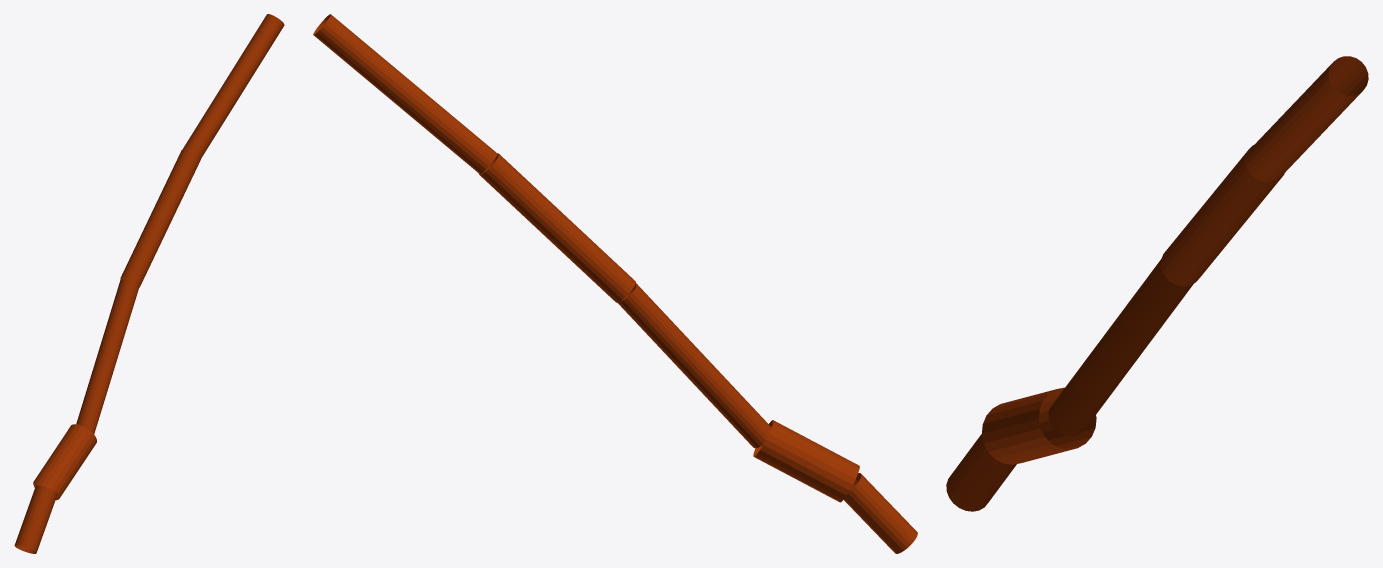
Rendered from tree_0051.obj.
3 views of the same model, side by side, from view 1: azimuth 30°, elevation 25°; view 2: azimuth 150°, elevation 25°; view 3: azimuth 270°, elevation 25° (orthographic). The views are drawn at different scales.
Parts seen in each view (by area): view 1: groupWood; view 2: groupWood; view 3: groupWood.
Boxes of the visible parts, x1=… form: groupWood: x1=14, y1=14, x2=284, y2=553; groupWood: x1=313, y1=14, x2=917, y2=553; groupWood: x1=946, y1=56, x2=1368, y2=511.
Bounding box in the file's own units: 0.4756 × 0.493 × 0.2418.
